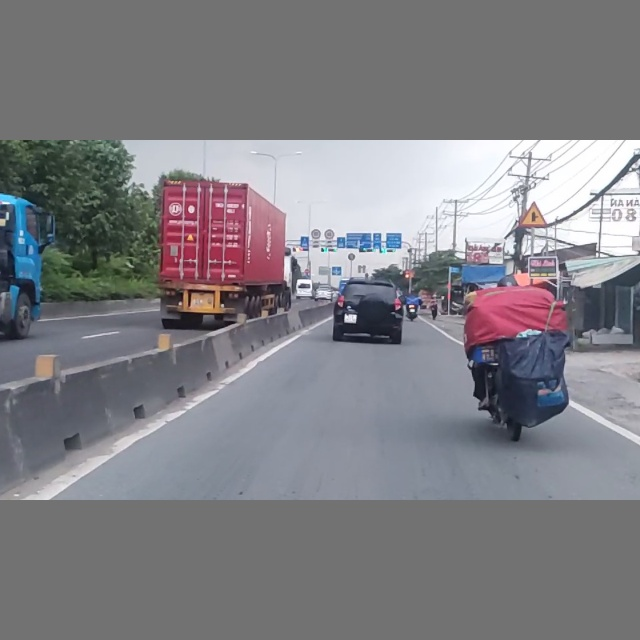P.127*60: (325, 229, 335, 239)
W.207: (521, 201, 547, 226)
